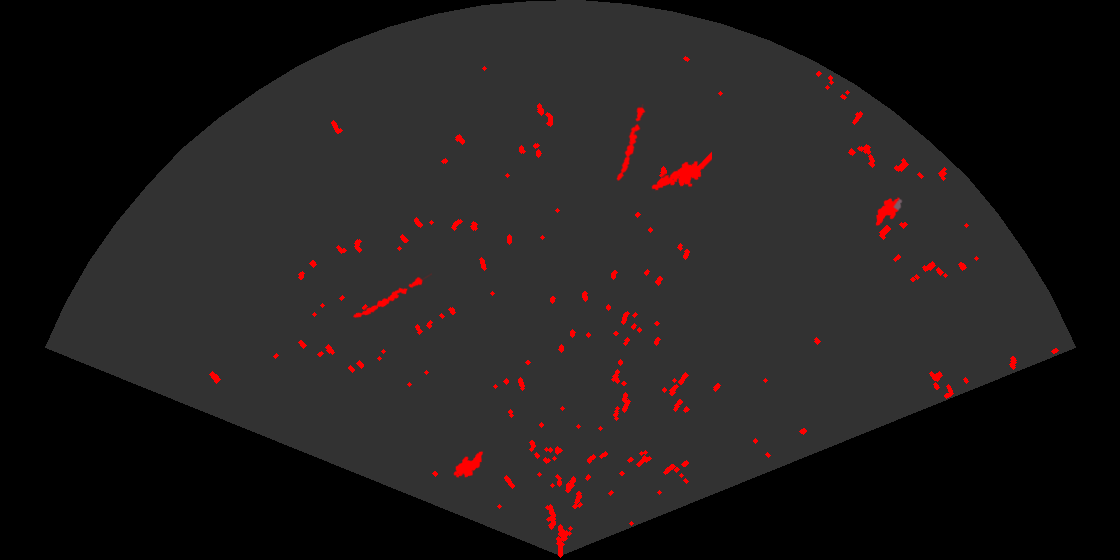AUV: (452, 449, 485, 479), (874, 196, 903, 228)
chain: (351, 272, 432, 320), (615, 104, 647, 183)
frogman: (650, 150, 712, 192)
